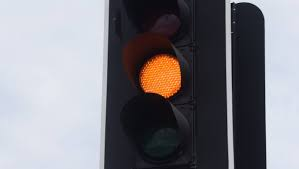amber: (125, 1, 201, 168), (133, 2, 188, 159)
